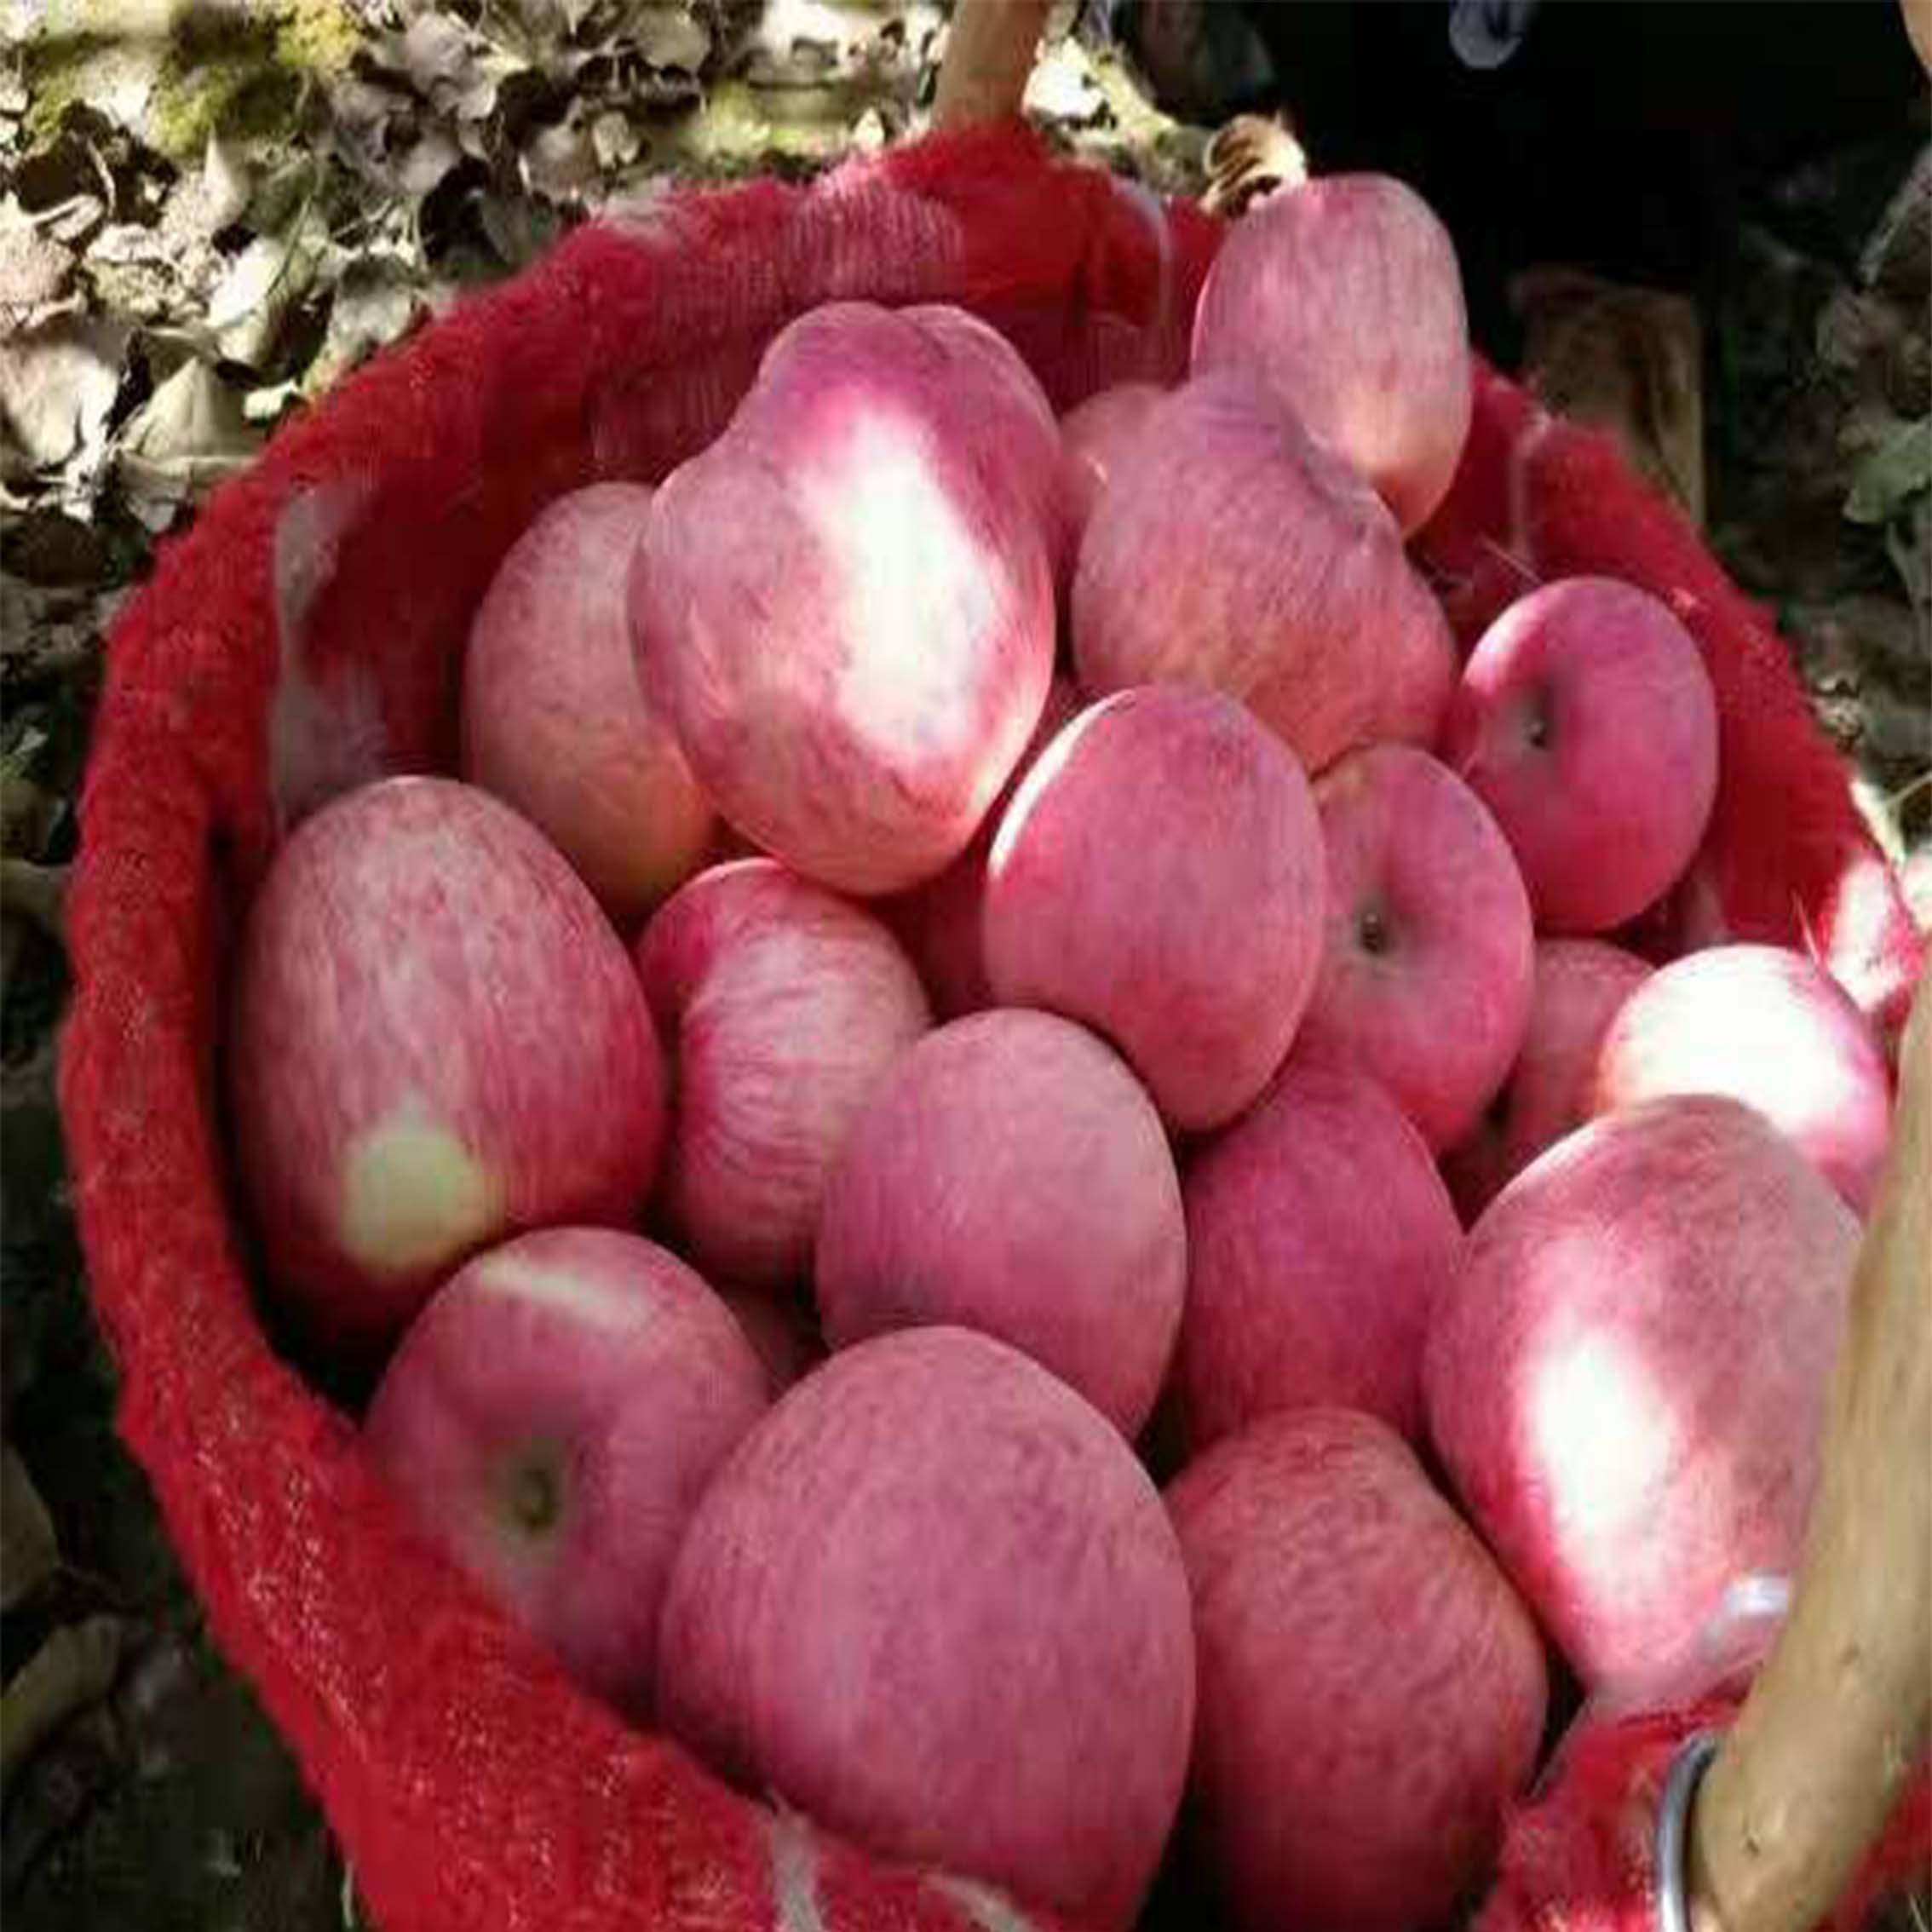apple: (656, 1320, 1196, 1893), (1412, 1092, 1861, 1732), (632, 306, 1072, 892), (241, 764, 667, 1300), (1164, 1384, 1548, 1895), (363, 1231, 773, 1704), (830, 998, 1189, 1454), (987, 667, 1327, 1131), (1060, 366, 1415, 805), (1169, 170, 1472, 534), (1426, 575, 1725, 925)
